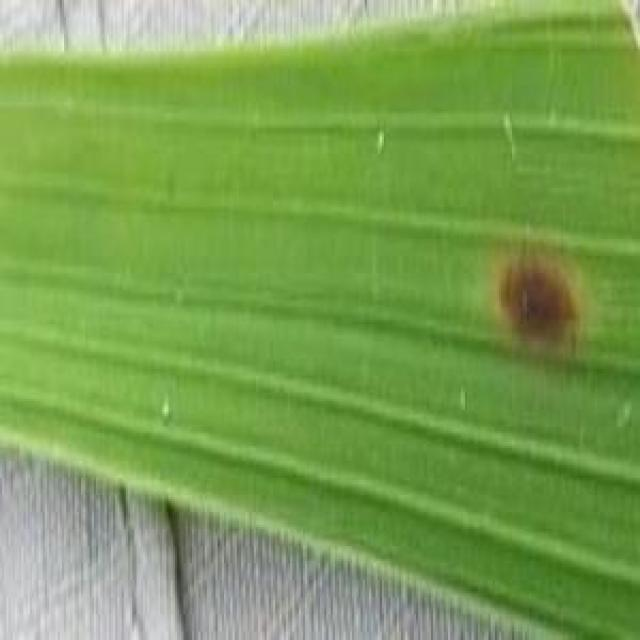brownspots: (493, 258, 589, 339)
